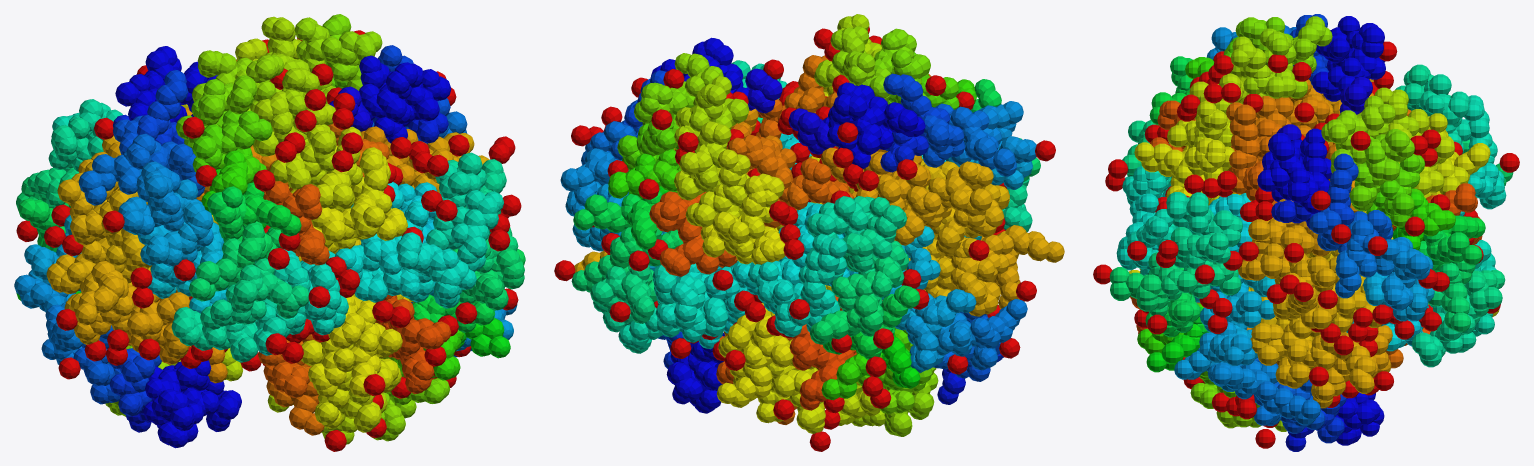
Rendered from 4hhb__spheres__rainbow.glb.
The picture shows the model from 3 angles, left to right: view 1: azimuth 30°, elevation 25°; view 2: azimuth 150°, elevation 25°; view 3: azimuth 270°, elevation 25°; orthographic projection. The views are drawn at different scales.
Parts seen in each view (by area): view 1: Renderer Node; view 2: Renderer Node; view 3: Renderer Node.
Part boxes in pixels (box(x1,y1,x2,y2)): Renderer Node: box(14, 14, 525, 451); Renderer Node: box(554, 14, 1064, 451); Renderer Node: box(1093, 14, 1519, 451).
Bounding box in the file's own units: 73.32 × 60.06 × 63.83.
